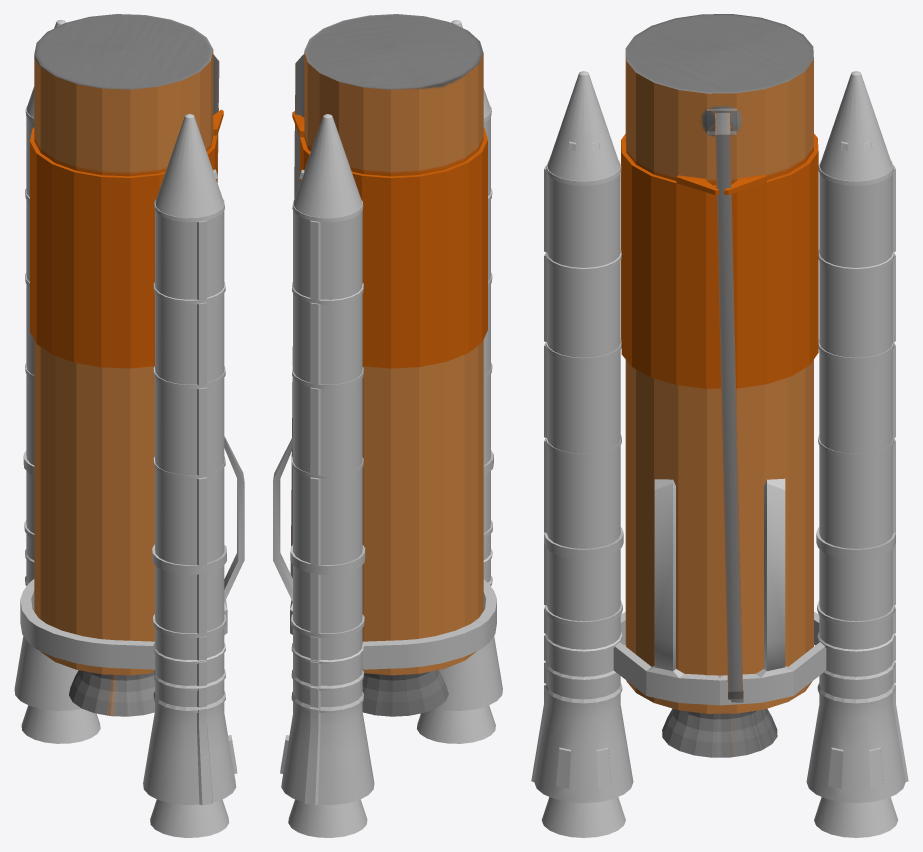
File: Transbordador.fbx
3 views of the same model, side by side, from view 1: azimuth 30°, elevation 25°; view 2: azimuth 150°, elevation 25°; view 3: azimuth 270°, elevation 25° (orthographic). The views are drawn at different scales.
Visible parts, largest first — view 1: polySurface2, pCylinder2, pCylinder3; view 2: polySurface2, pCylinder3, pCylinder2; view 3: polySurface2, pCylinder2, pCylinder3.
Boxes of the visible parts, box(x1,y1,x2,y2) form: polySurface2: box(30, 14, 223, 716); pCylinder2: box(33, 114, 244, 837); pCylinder3: box(14, 19, 100, 743); polySurface2: box(290, 14, 487, 716); pCylinder3: box(273, 114, 484, 837); pCylinder2: box(417, 20, 502, 743); polySurface2: box(621, 14, 818, 757); pCylinder2: box(531, 71, 719, 837); pCylinder3: box(720, 71, 908, 837).
Size of the model in its own units: 12.91 by 47.51 by 21.15.
